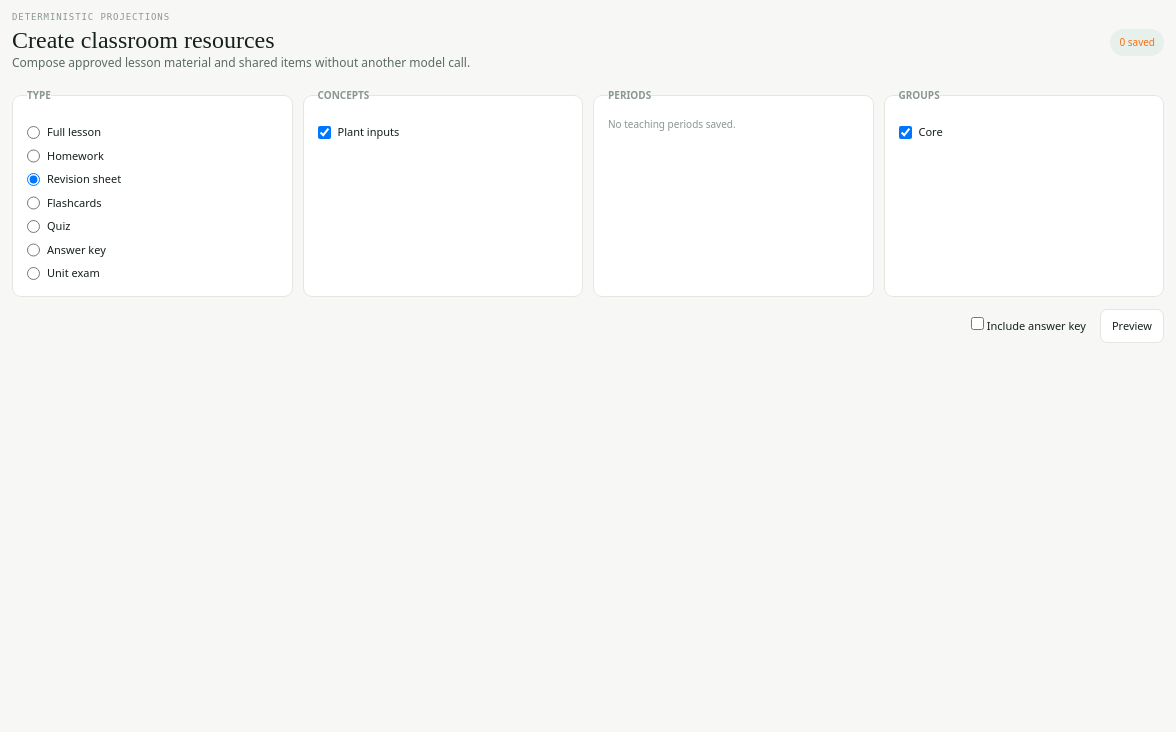
Test: ResourceComposerPanel › surfaces projection_unavailable without enabling creation
Click the button "Preview" at (1132, 326), box [1100,308,1164,343]
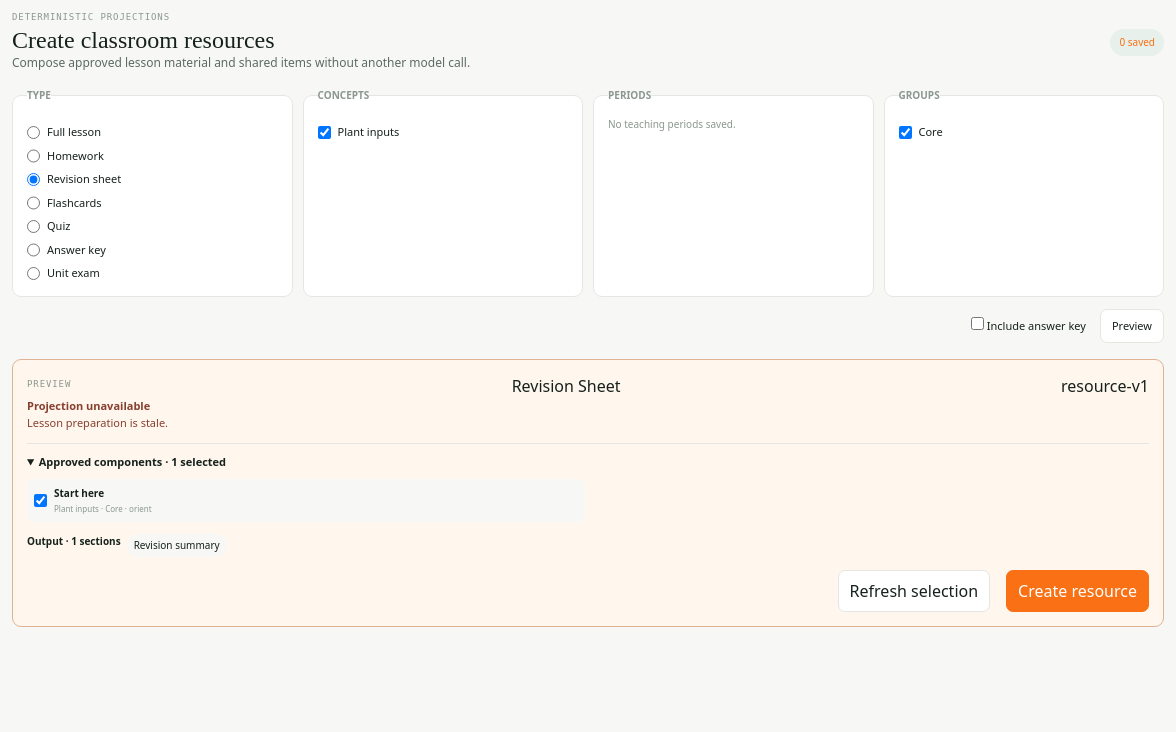
Check: the list item "Lesson preparation is stale." is shown, box [27,414,168,430]
Check: the button "Create resource" is disabled, box [1006,570,1149,612]
